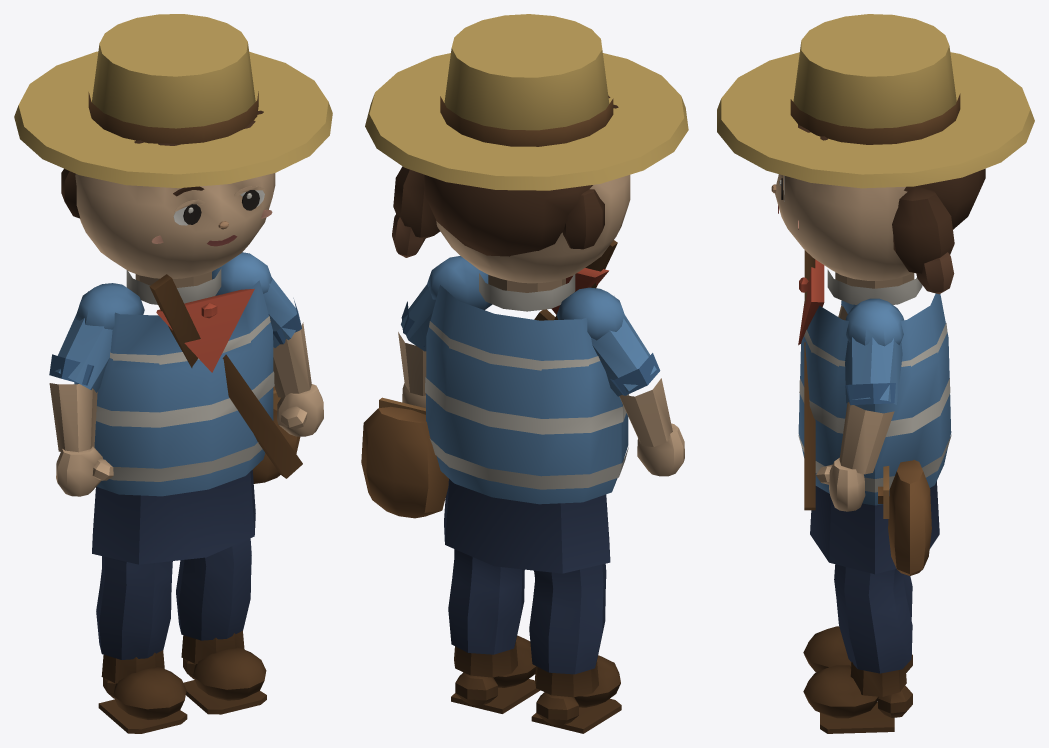
Rendered from characters.glb.
The picture shows the model from 3 angles, left to right: view 1: azimuth 30°, elevation 25°; view 2: azimuth 150°, elevation 25°; view 3: azimuth 270°, elevation 25°; orthographic projection.
Parts seen in each view (by area): view 1: SM_char_farmer; view 2: SM_char_farmer; view 3: SM_char_farmer.
Part boxes in pixels (x1,y1,x2,y2): SM_char_farmer: [14, 14, 332, 733]; SM_char_farmer: [361, 14, 688, 733]; SM_char_farmer: [717, 14, 1034, 733].
Size of the model in its own units: 0.7478 by 1.65 by 0.725.
